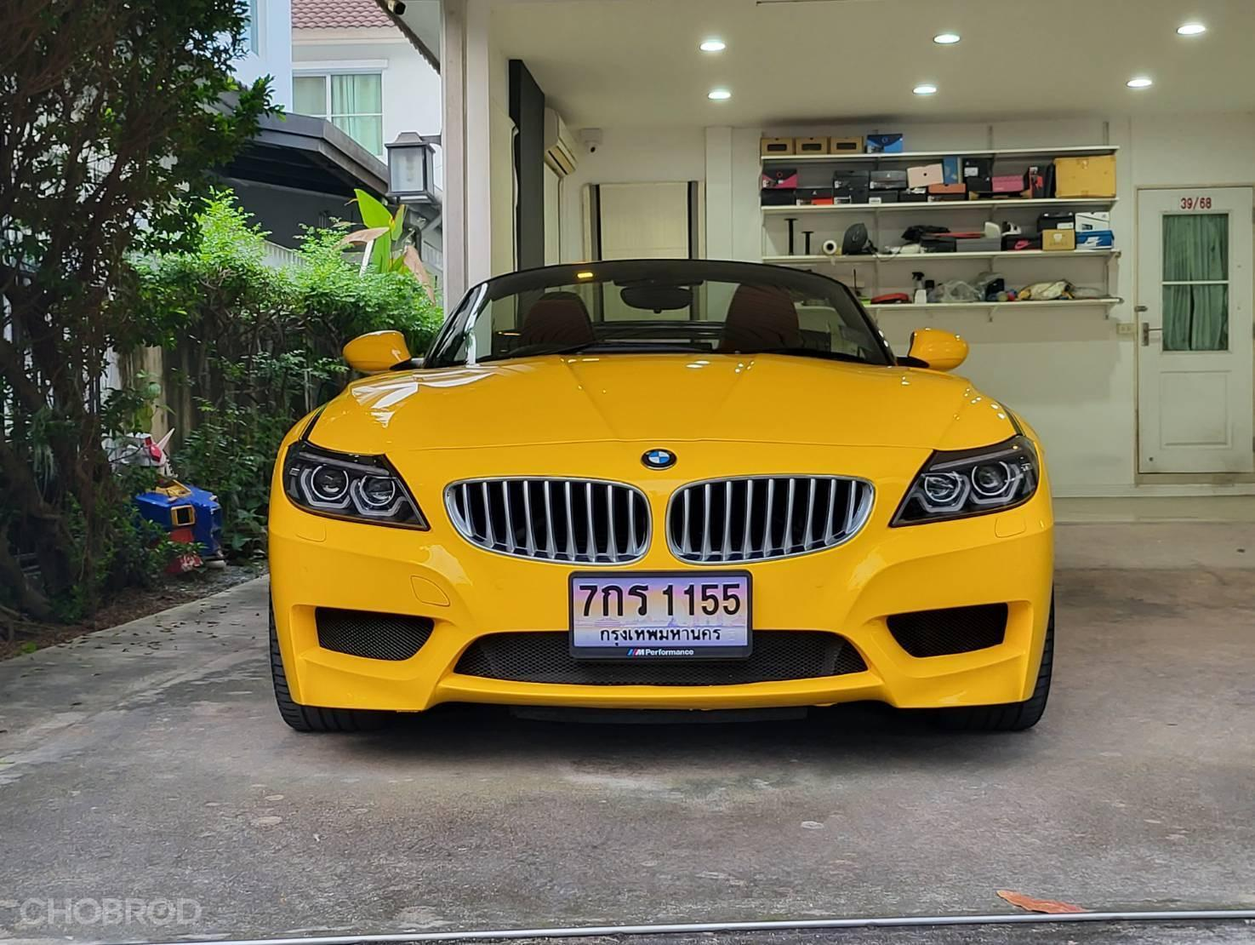license-plate: (562, 566, 756, 660)
